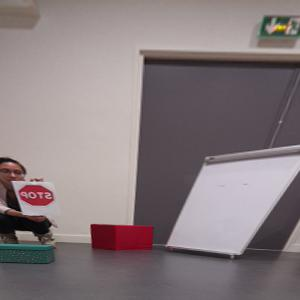big: (167, 146, 300, 256)
medium: (90, 224, 154, 251)
small: (1, 245, 54, 266)
